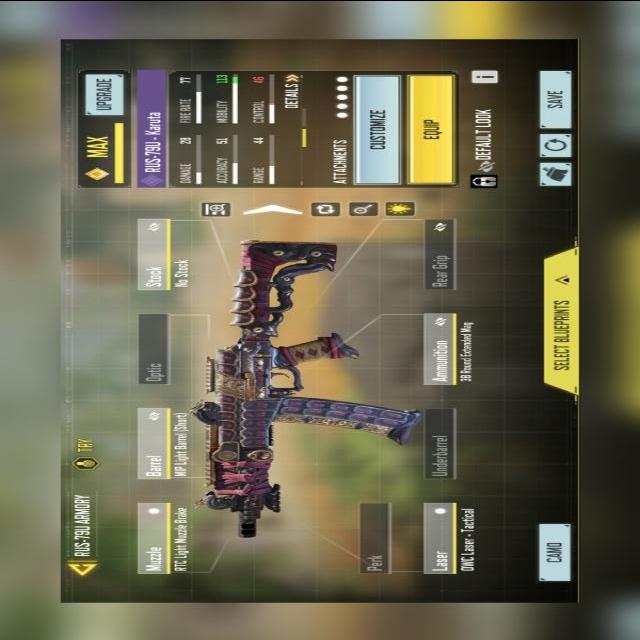rifle: (188, 235, 417, 546)
